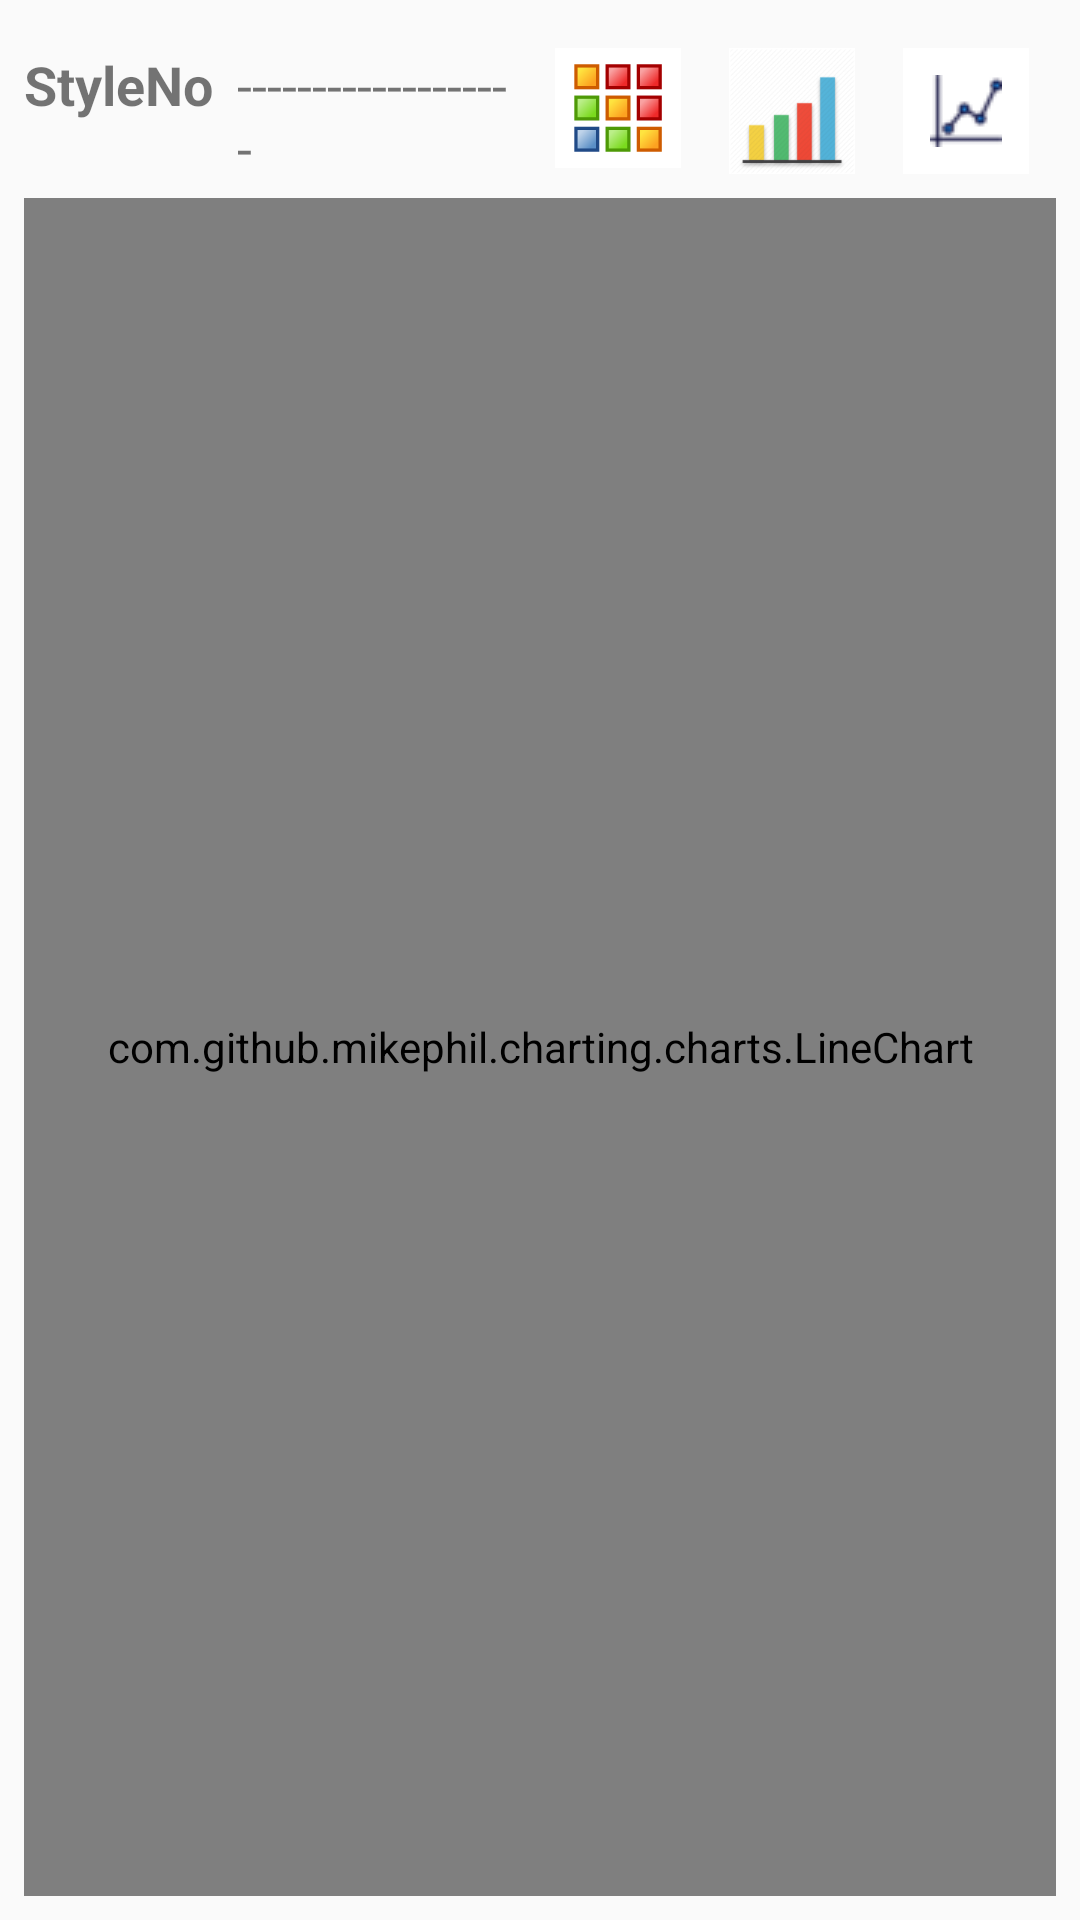

Icons on this 1080x1920 Android screen, each with its box as BBox(x1, y1, x2, y2):
grid: BBox(574, 64, 662, 152)
icbarchart: BBox(742, 77, 842, 166)
linecharts: BBox(930, 75, 1002, 147)
